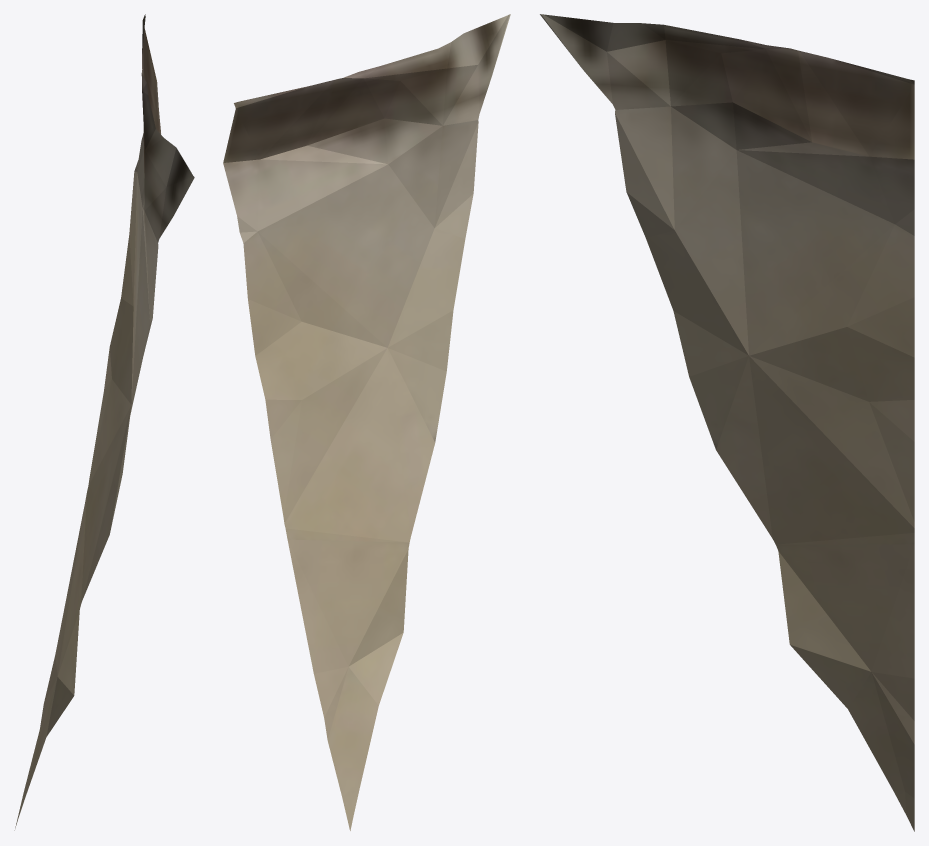
3 renders of one model, left to right at view 1: azimuth 30°, elevation 25°; view 2: azimuth 150°, elevation 25°; view 3: azimuth 270°, elevation 25°, orthographic. The views are drawn at different scales.
Bounding box in the file's own units: 0.201 × 1.06 × 0.4397.
Materials: 1 (1 with a texture image).
